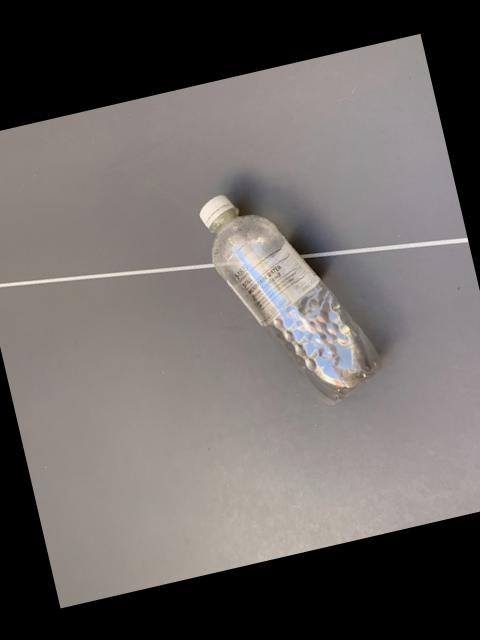plastic: (198, 196, 378, 403)
